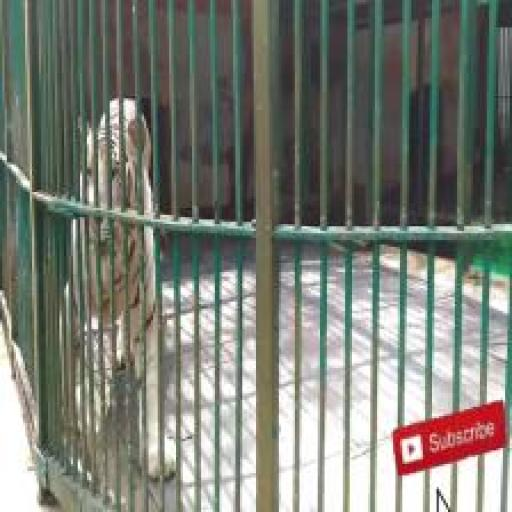Tiger: (46, 52, 191, 510)
